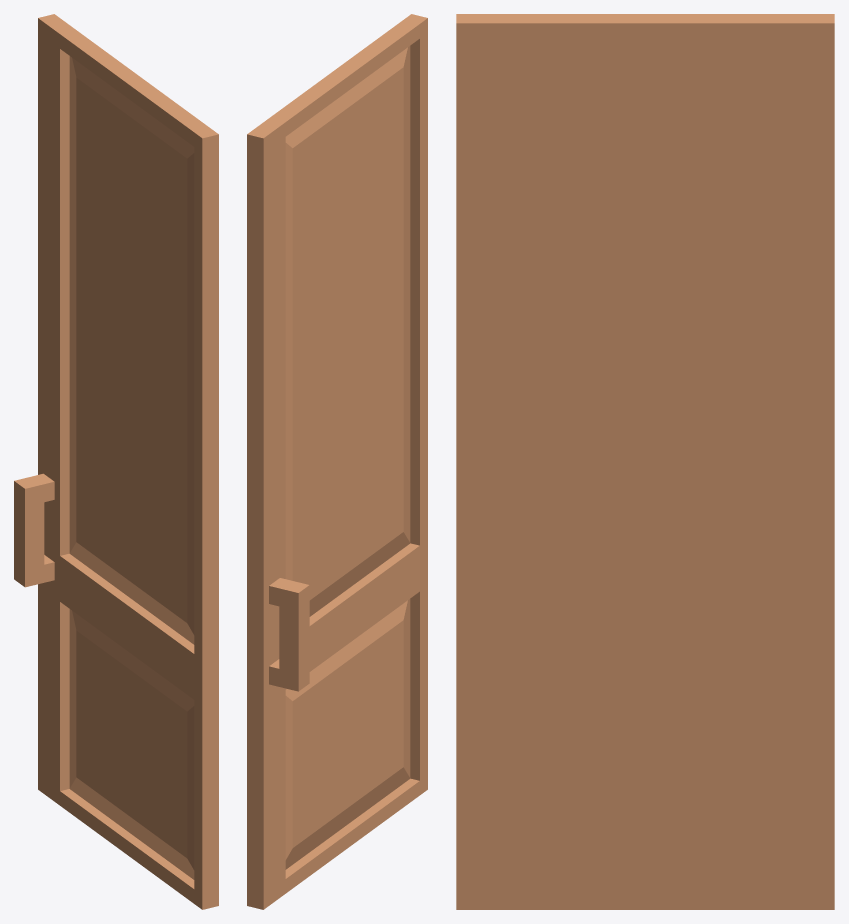
File: mesh_SSOfficeWardrobeDoorR.fbx
The picture shows the model from 3 angles, left to right: view 1: azimuth 30°, elevation 25°; view 2: azimuth 150°, elevation 25°; view 3: azimuth 270°, elevation 25°; orthographic projection. The views are drawn at different scales.
Visible parts, largest first — view 1: DoorR; view 2: DoorR; view 3: DoorR.
Boxes of the visible parts, box(x1,y1,x2,y2) form: DoorR: box(14, 14, 218, 909); DoorR: box(247, 14, 427, 909); DoorR: box(456, 14, 834, 909).
Size of the model in its own units: 10.16 by 163 by 62.93.
